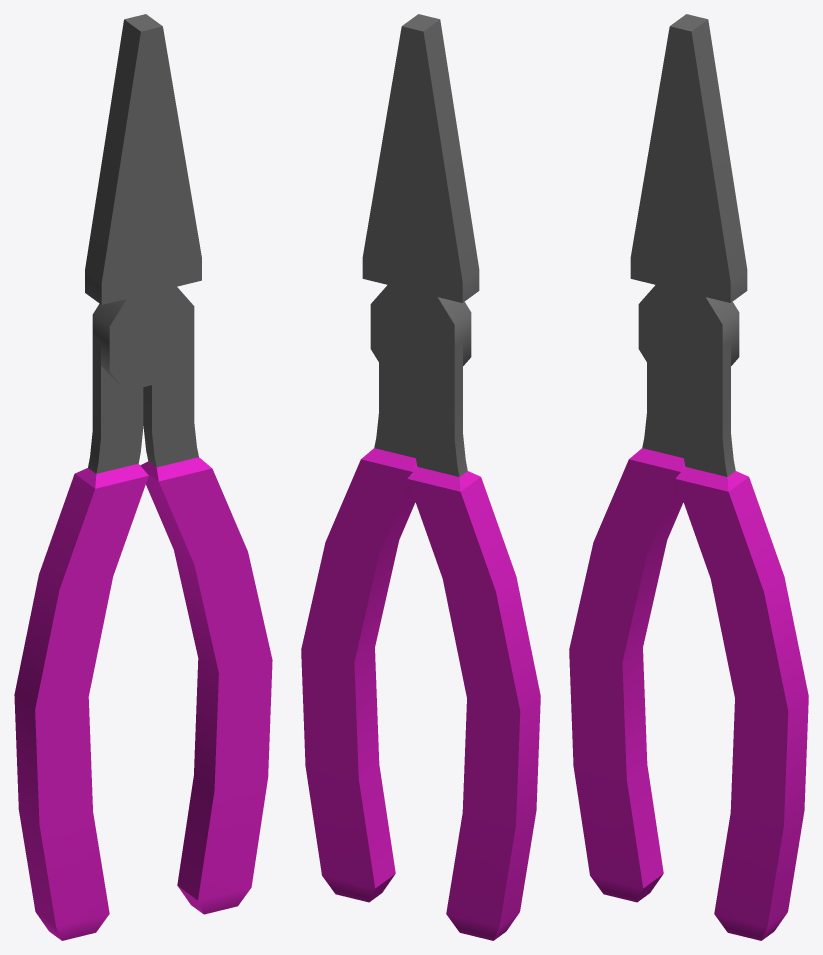
File: Pliers.fbx
The picture shows the model from 3 angles, left to right: view 1: azimuth 30°, elevation 25°; view 2: azimuth 150°, elevation 25°; view 3: azimuth 330°, elevation 25°; orthographic projection.
Visible parts, largest first — view 1: polySurface26; view 2: polySurface26; view 3: polySurface26.
Part boxes in pixels (<box>): polySurface26: <box>14,14,272,940</box>; polySurface26: <box>301,14,540,940</box>; polySurface26: <box>569,14,808,940</box>.
Size of the model in its own units: 0.9904 by 3.7 by 0.2178.
